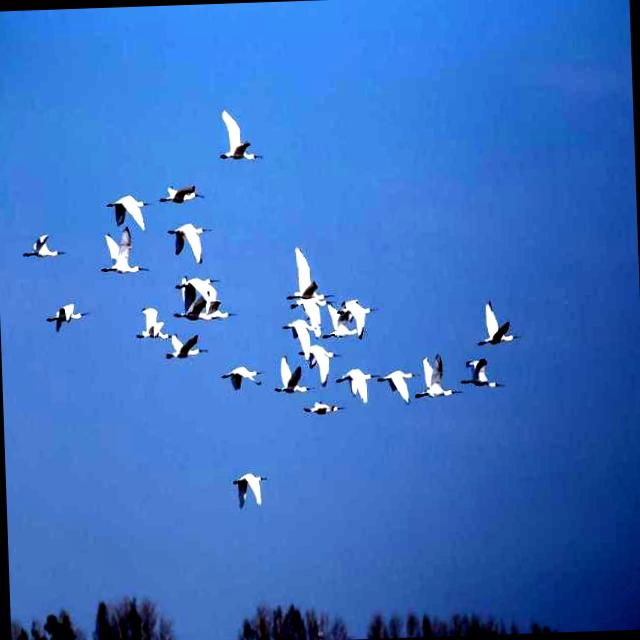bird: (220, 100, 264, 168), (98, 228, 151, 284), (274, 249, 330, 300), (94, 183, 154, 229), (414, 352, 462, 403), (227, 464, 271, 516), (476, 298, 518, 349), (164, 329, 210, 374), (457, 352, 506, 391), (13, 230, 66, 266), (158, 176, 208, 214), (217, 356, 264, 396), (44, 298, 90, 338), (377, 361, 418, 404), (130, 300, 170, 342), (168, 222, 212, 260), (334, 364, 378, 398), (274, 354, 310, 394), (174, 266, 222, 294), (171, 292, 209, 326), (325, 310, 359, 348), (347, 294, 385, 326), (280, 320, 314, 354), (301, 398, 350, 421), (288, 299, 326, 325), (206, 298, 237, 326)
